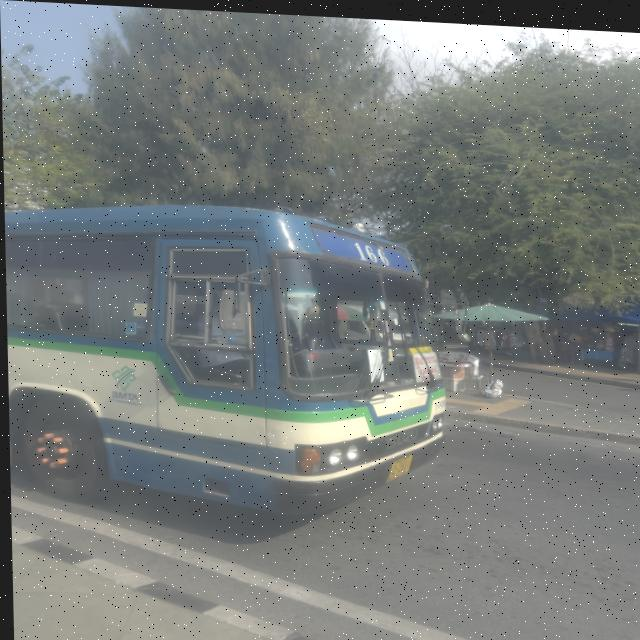BMTA-bus: (4, 204, 446, 515)
Bus Line Number: (345, 233, 395, 265)
Bus Side Number: (431, 391, 445, 408)
Destination Sign: (412, 348, 442, 377)
